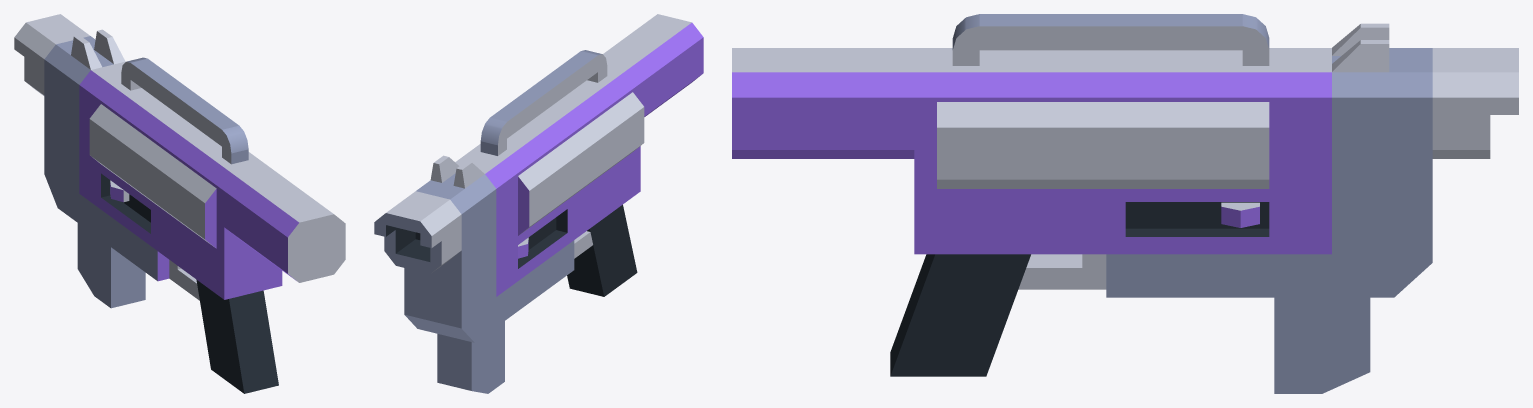
File: blasterA.obj
3 renders of one model, left to right at view 1: azimuth 30°, elevation 25°; view 2: azimuth 150°, elevation 25°; view 3: azimuth 270°, elevation 25°, orthographic. The views are drawn at different scales.
Parts seen in each view (by area): view 1: blasterA; view 2: blasterA; view 3: blasterA.
Boxes of the visible parts, bbox=[...] form: blasterA: bbox=[14, 14, 345, 393]; blasterA: bbox=[374, 14, 703, 393]; blasterA: bbox=[732, 14, 1518, 393].
Size of the model in its own units: 0.14 by 0.4159 by 0.82.
